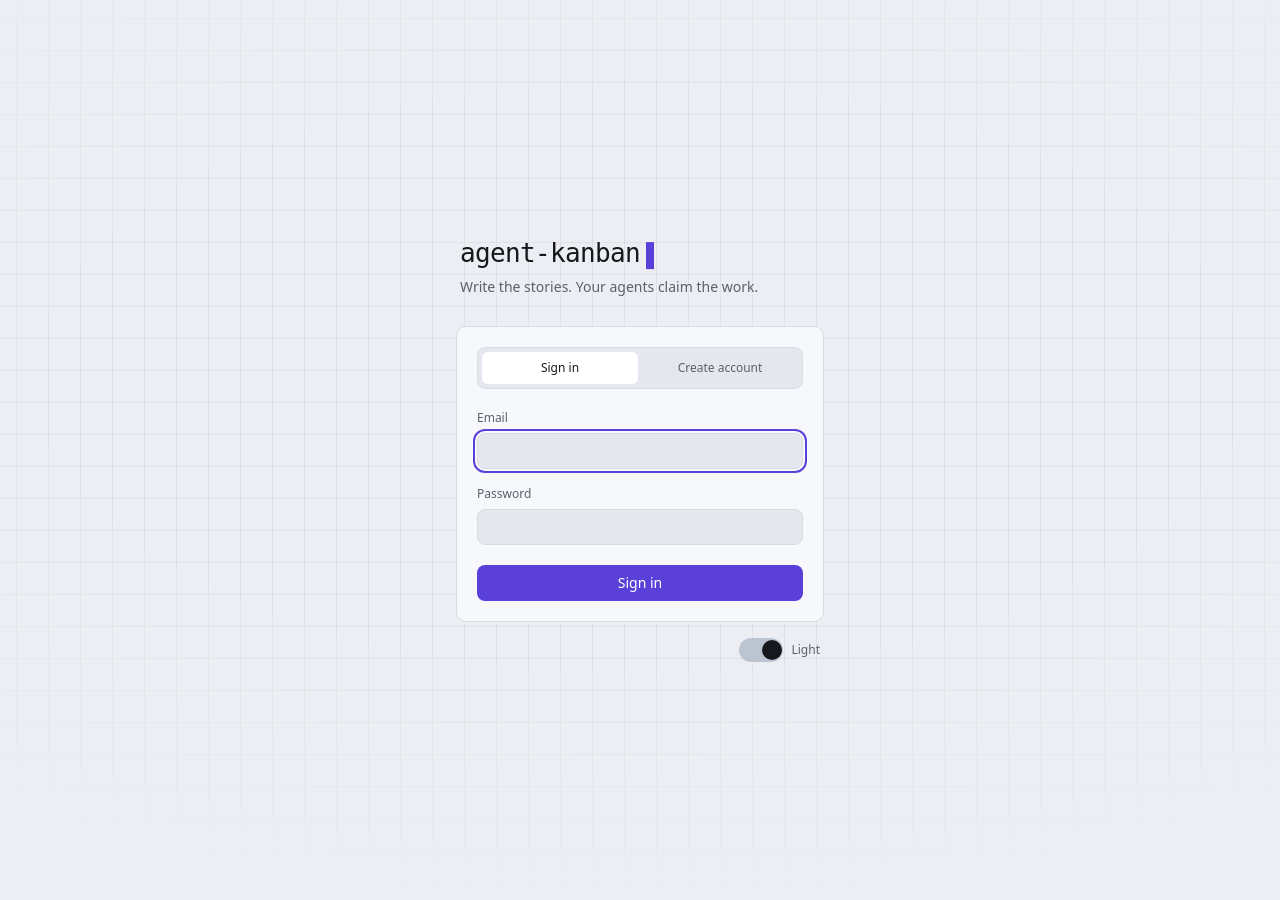
AuthScreen › explains a taken email when creating an account
The width and height of the screenshot is (1280, 900).
Step 1. Click the tab "Create account" → (720, 368), box [642,352,798,384]
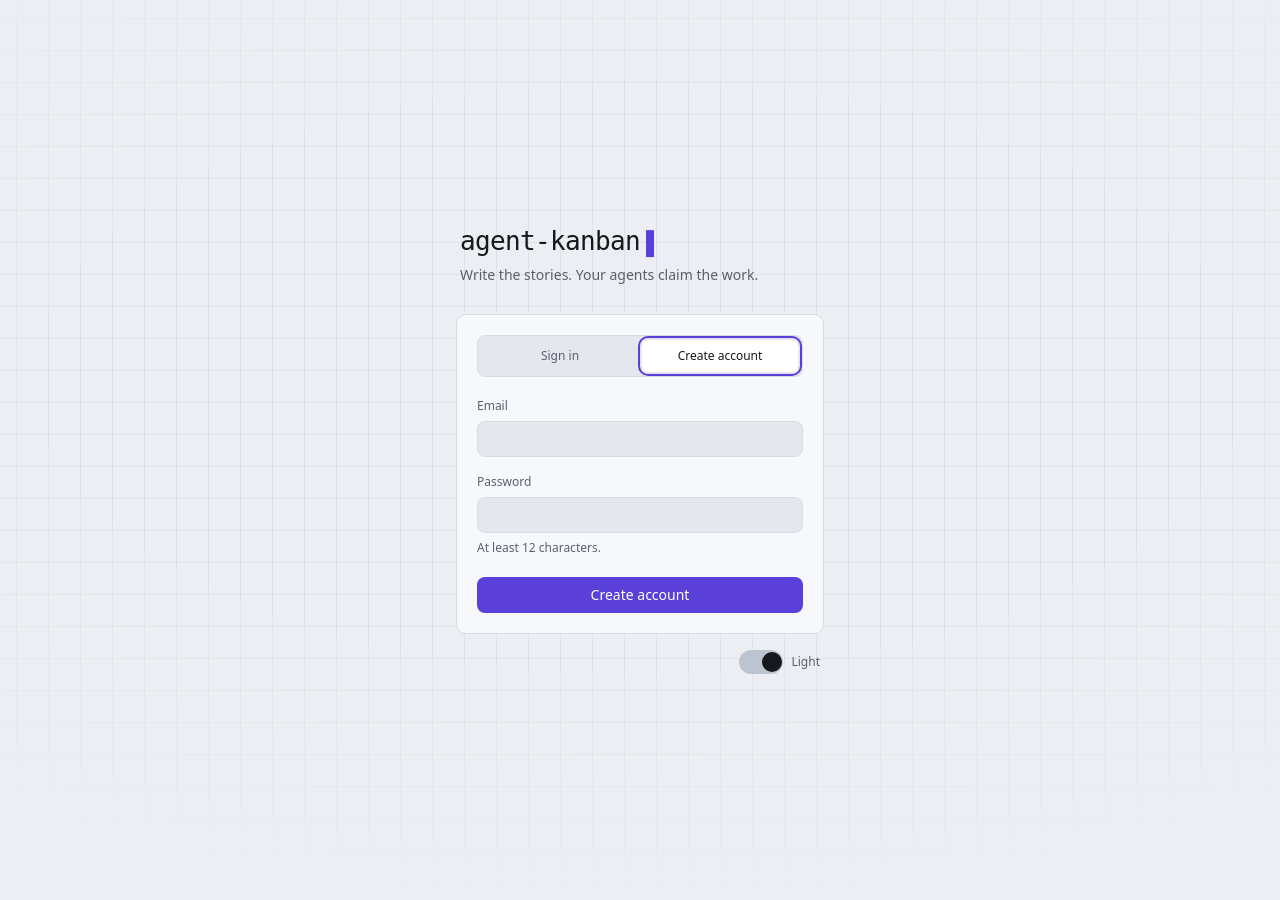
Step 2. Type "dev@example.com" into the field labelled "Email" → (640, 438), box [477,420,803,456]
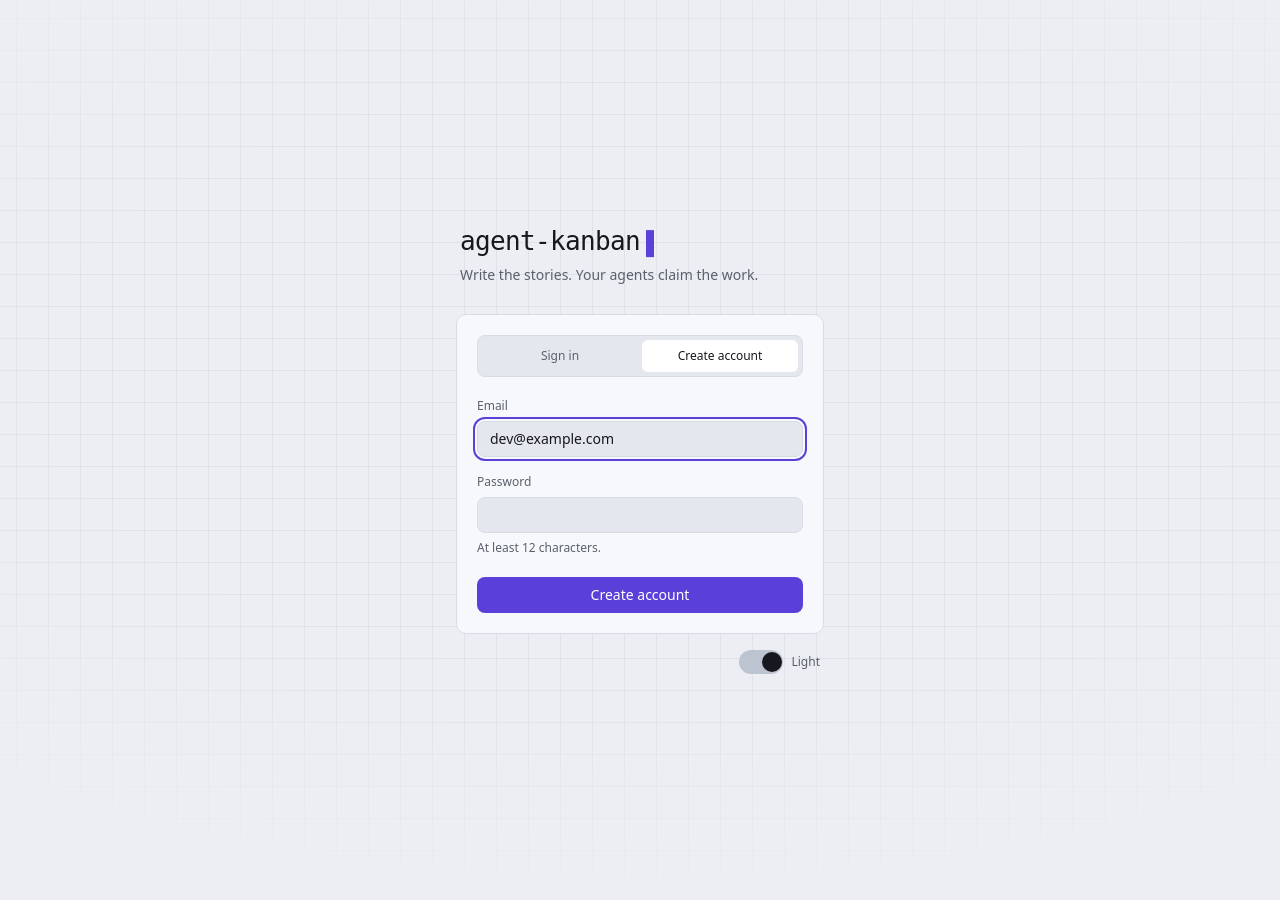
Step 3. Type "correct-horse-battery" into the password field labelled "Password" → (640, 514), box [477,496,803,532]
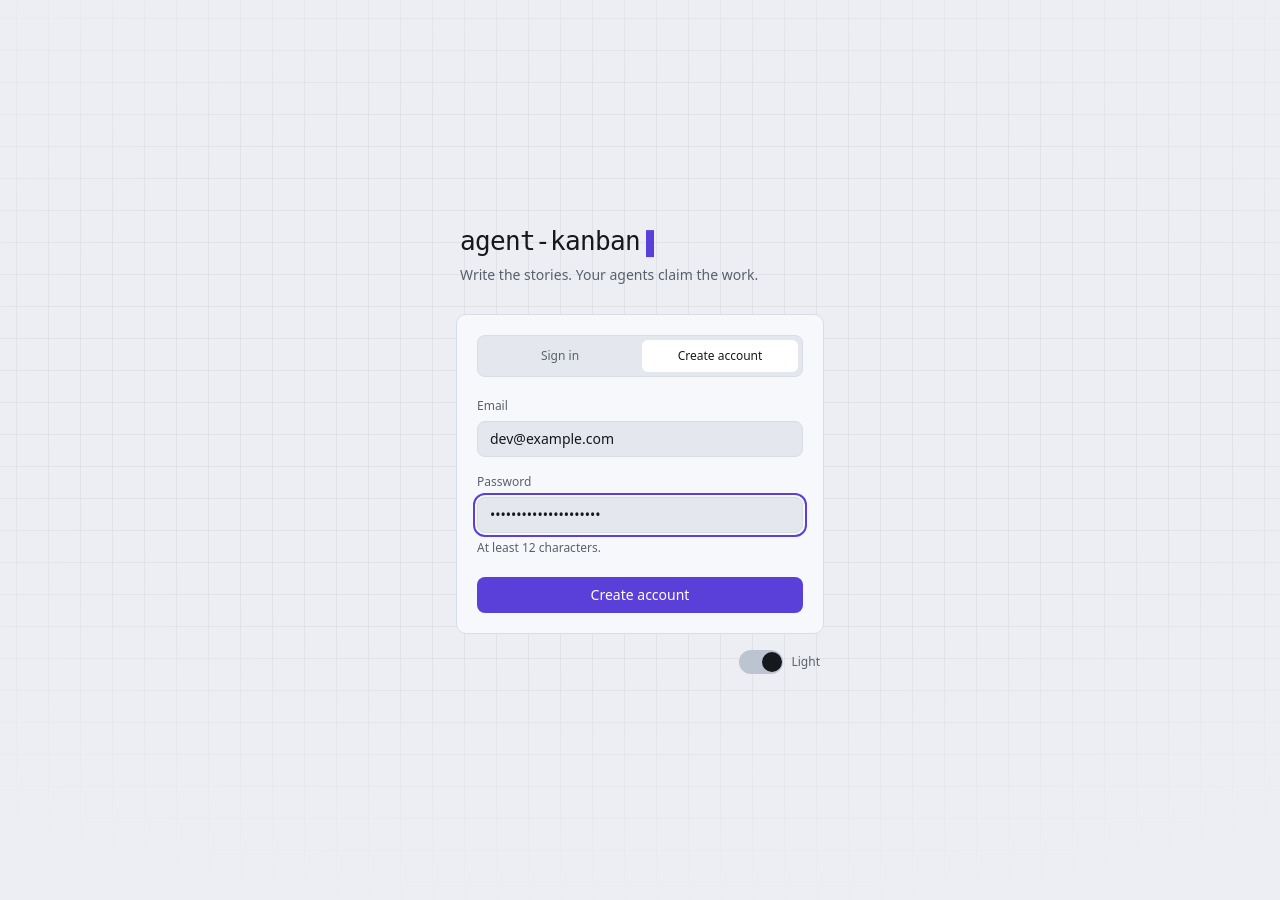
Step 4. Click the button "Create account" → (640, 594), box [477,576,803,612]
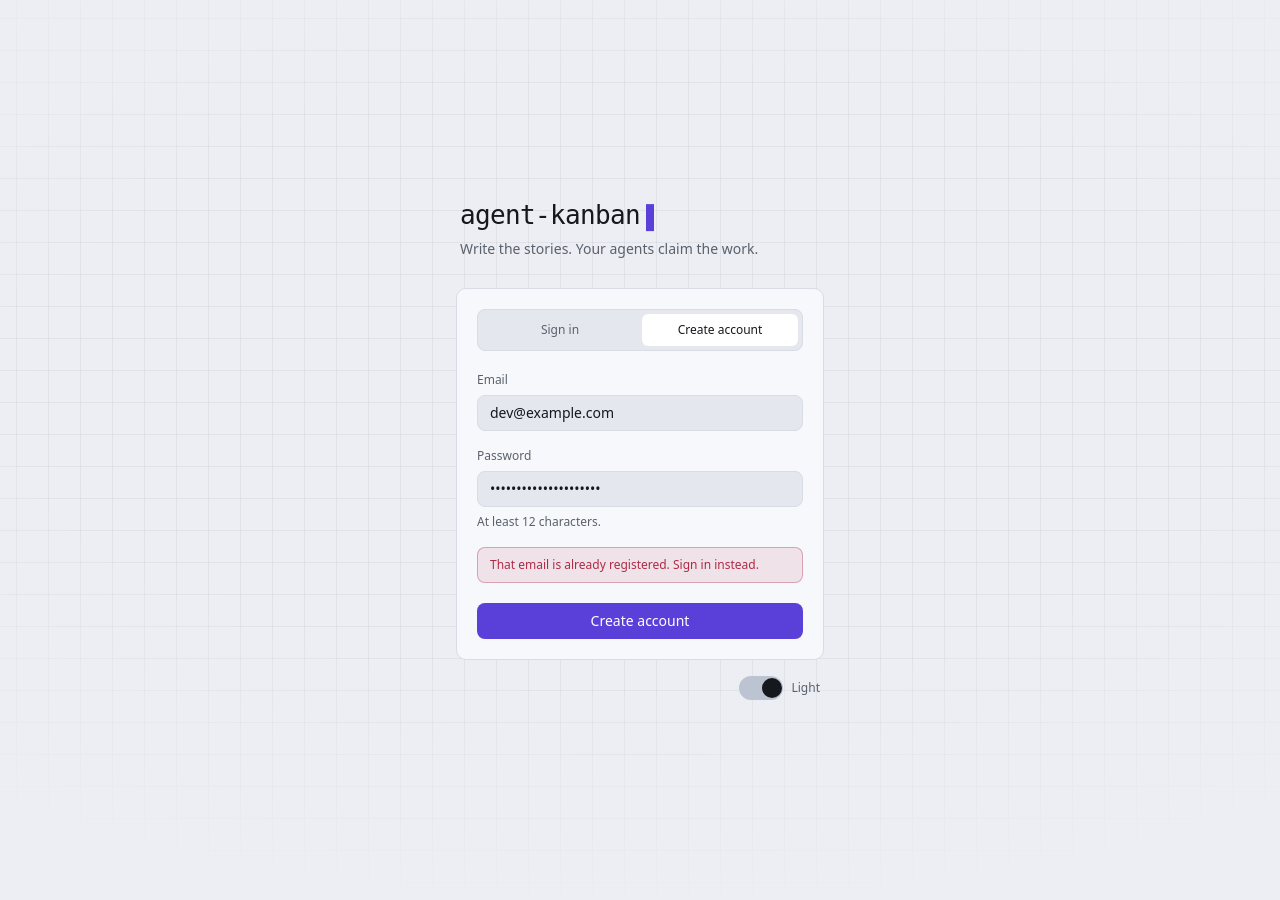
Now the message reads "That email is already registered. Sign in instead.", box [490,556,759,572]
